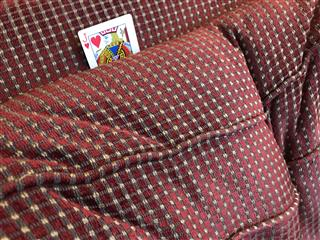JackOfHearts: (77, 13, 140, 68)
